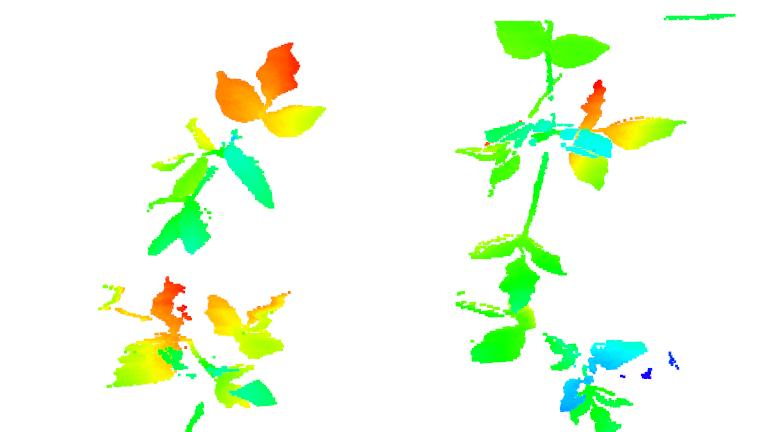mungbean: (451, 14, 686, 302), (140, 36, 327, 261), (447, 294, 652, 432), (98, 276, 292, 415)
